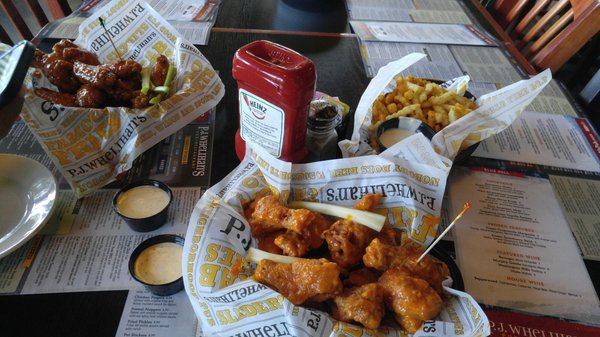sushi: (129, 234, 185, 295), (113, 180, 174, 232)
